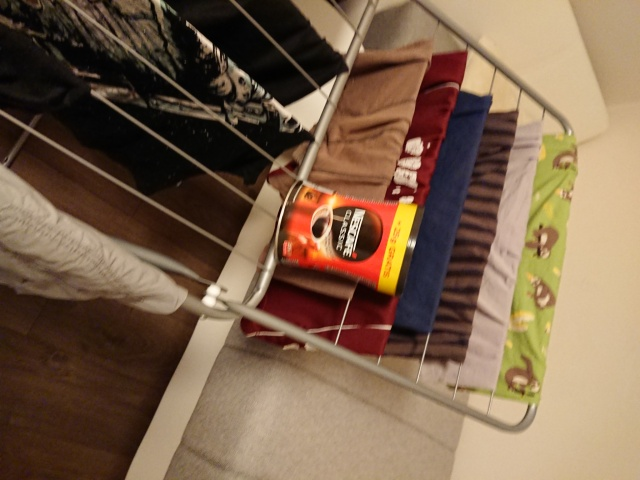Nescafe Classic 225g: (271, 176, 429, 301)
